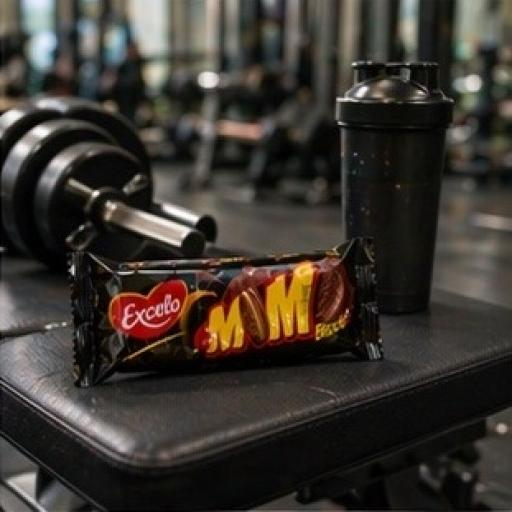MOMO: (67, 248, 381, 364)
